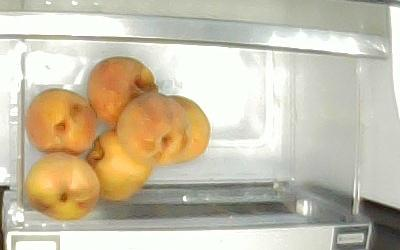peach: (115, 90, 193, 164), (24, 149, 100, 220), (85, 55, 159, 127), (84, 128, 154, 200), (24, 86, 96, 155), (163, 93, 210, 163)
